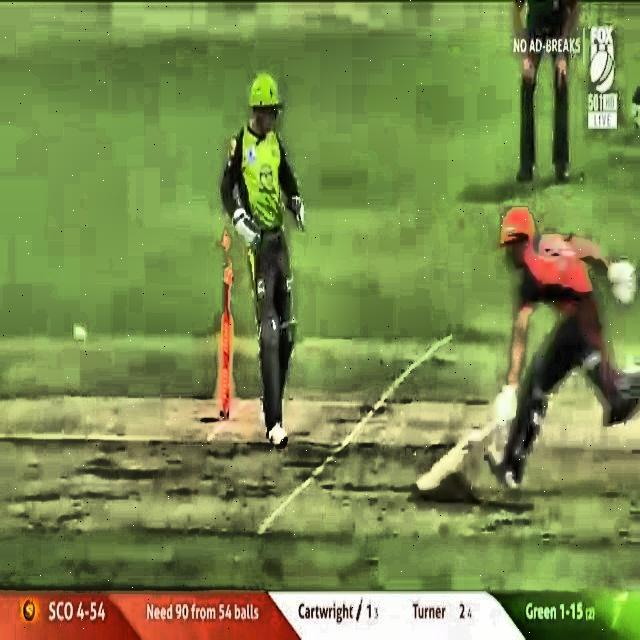Ball: (68, 320, 97, 349)
Bat: (406, 383, 530, 501)
Dis_Wicket: (198, 224, 238, 421)
Pitch_Line: (252, 328, 453, 534)
